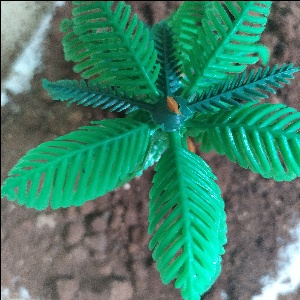plant: (2, 2, 298, 300)
